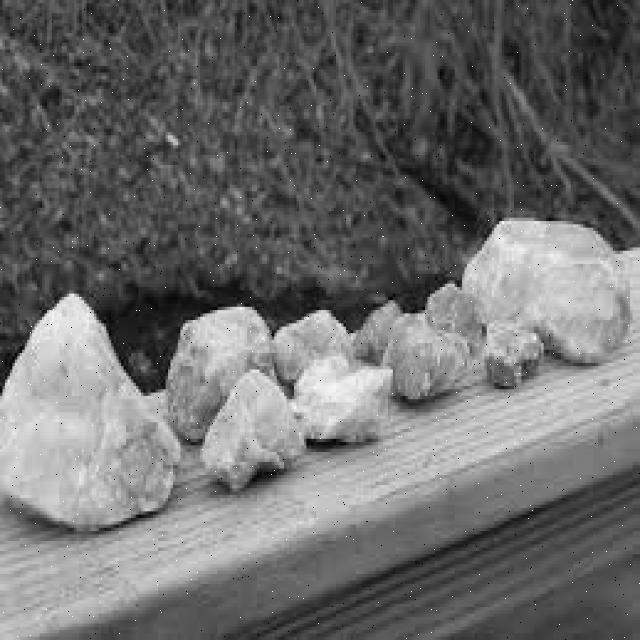Metamorphic: (3, 205, 630, 544)
